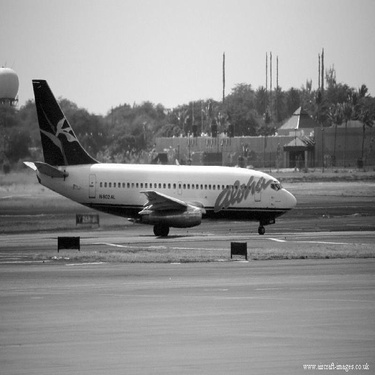airplane: (12, 60, 307, 268)
